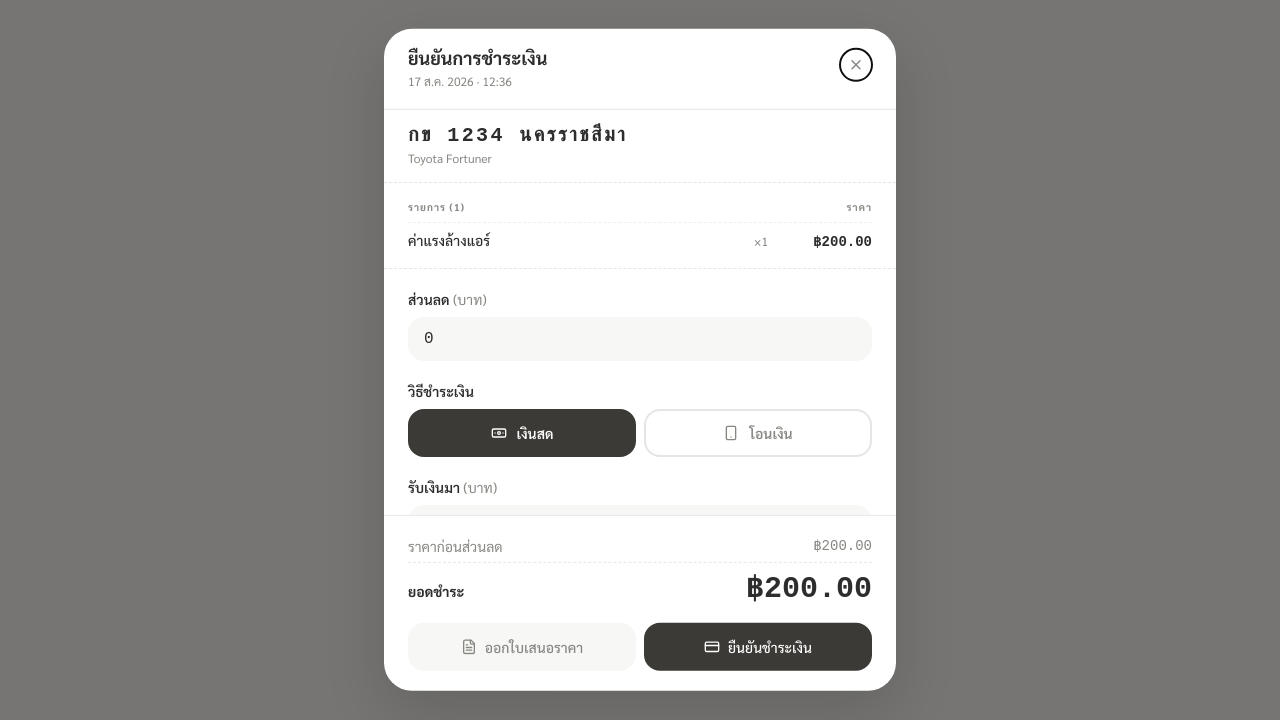
Test: CheckoutModal › discount validation › shows error when discount exceeds subtotal on submit
Replace the text in the number field labelled "ส่วนลด (บาท)" with "9999" at (640, 339), box [408,317,872,361]
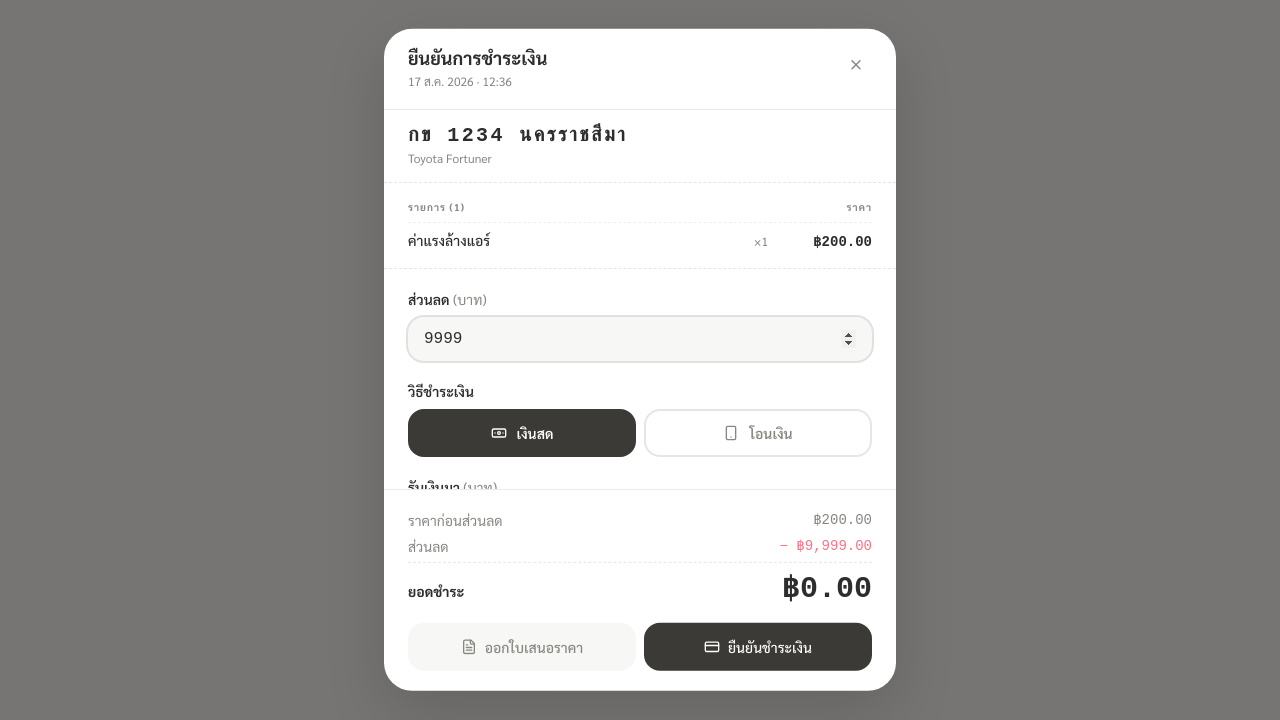
Click the button "ยืนยันชำระเงิน" at (758, 647), box [644,623,872,671]
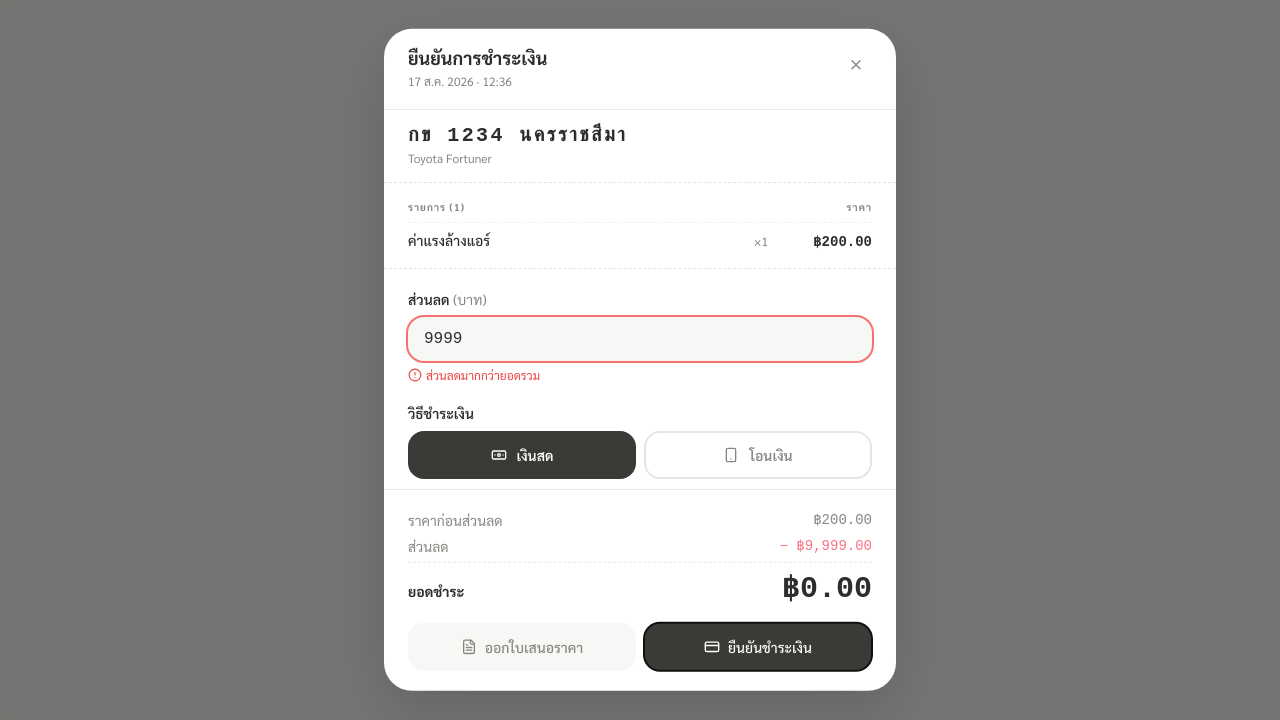
Now the text "ส่วนลดมากกว่ายอดรวม" is shown, box [408,367,540,383]
